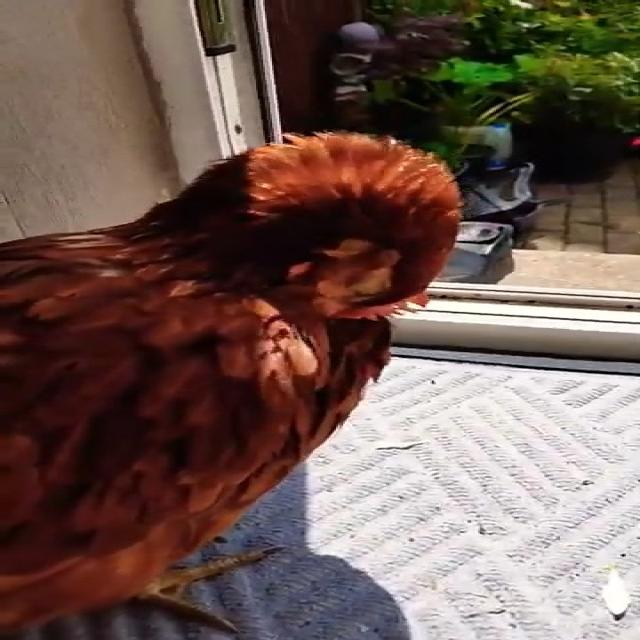self preening: (0, 104, 487, 620)
